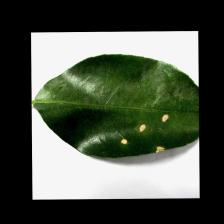canker: (91, 100, 177, 158)
